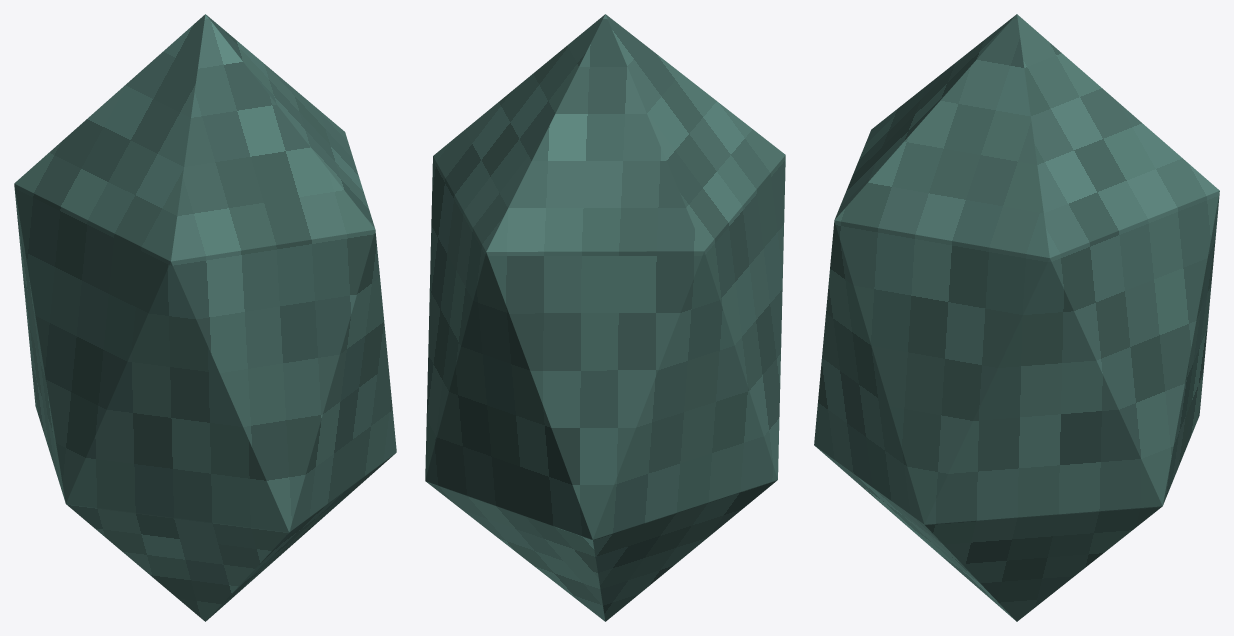
Rendered from rock_04.glb.
The picture shows the model from 3 angles, left to right: view 1: azimuth 30°, elevation 25°; view 2: azimuth 150°, elevation 25°; view 3: azimuth 270°, elevation 25°; orthographic projection.
Parts seen in each view (by area): view 1: WeatheredStone; view 2: WeatheredStone; view 3: WeatheredStone.
Part boxes in pixels (x1,y1,x2,y2): WeatheredStone: (14,14,396,621); WeatheredStone: (425,14,785,621); WeatheredStone: (814,14,1219,621).
Size of the model in its own units: 1.26 by 2.34 by 1.42.
Materials: 1 (1 with a texture image).
